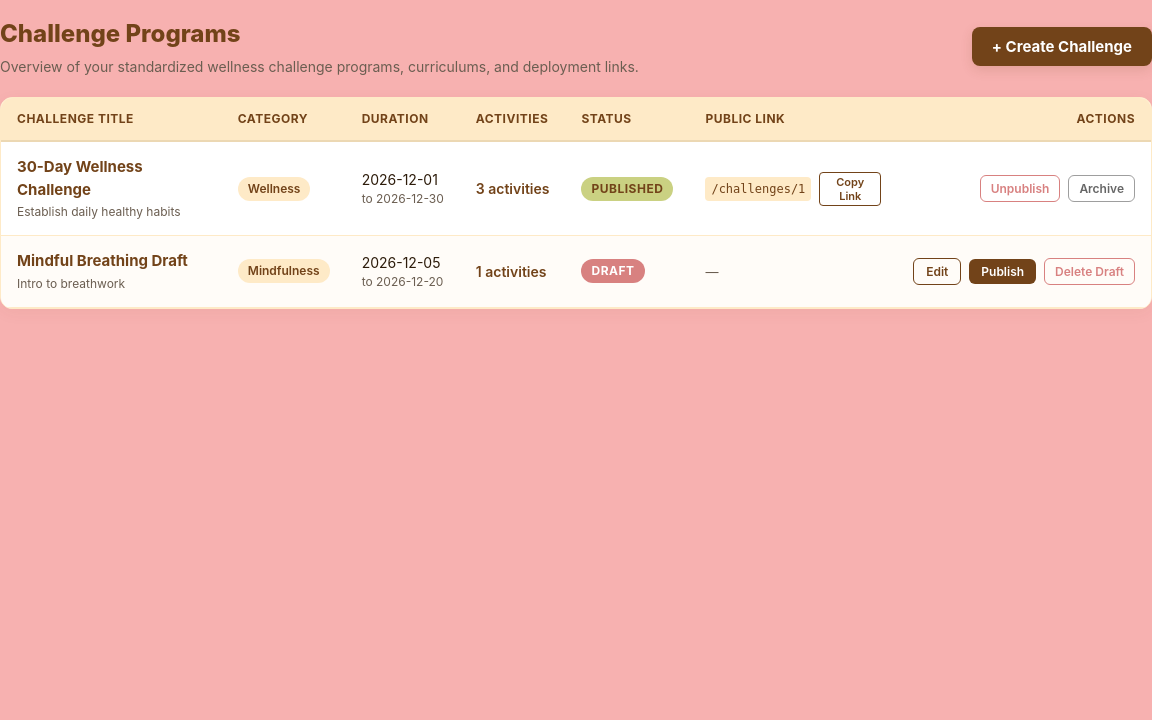
it: Program Builder Component (UI-07) › dynamically adds and removes activity rows with minimum 1 activity constraint
This screenshot has width=1152, height=720.
Later steps or results of the test are not shown.
Check: the heading "Challenge Programs" is shown, box [0, 19, 240, 48]
Open modal
Click the button "+ Create Challenge" at coordinates (1062, 46), box [972, 27, 1151, 66]
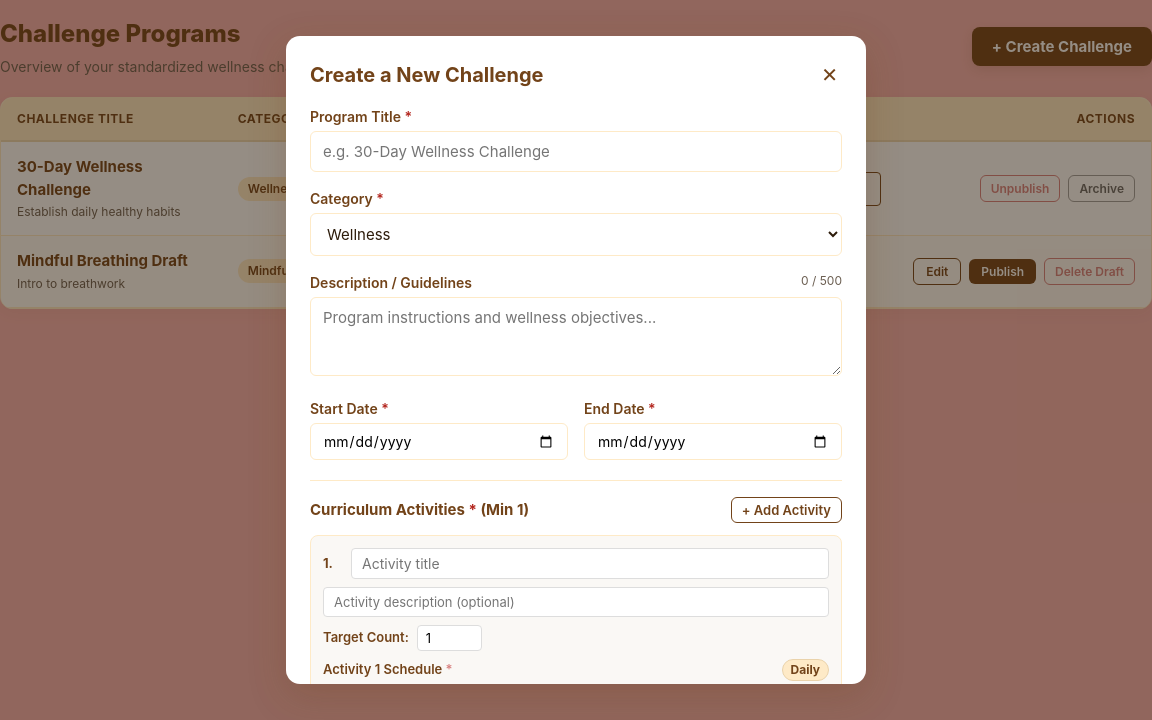
Click "+ Add Activity"
Click the button "+ Add Activity" at coordinates (786, 510), box [731, 497, 842, 523]
(page scrolled)
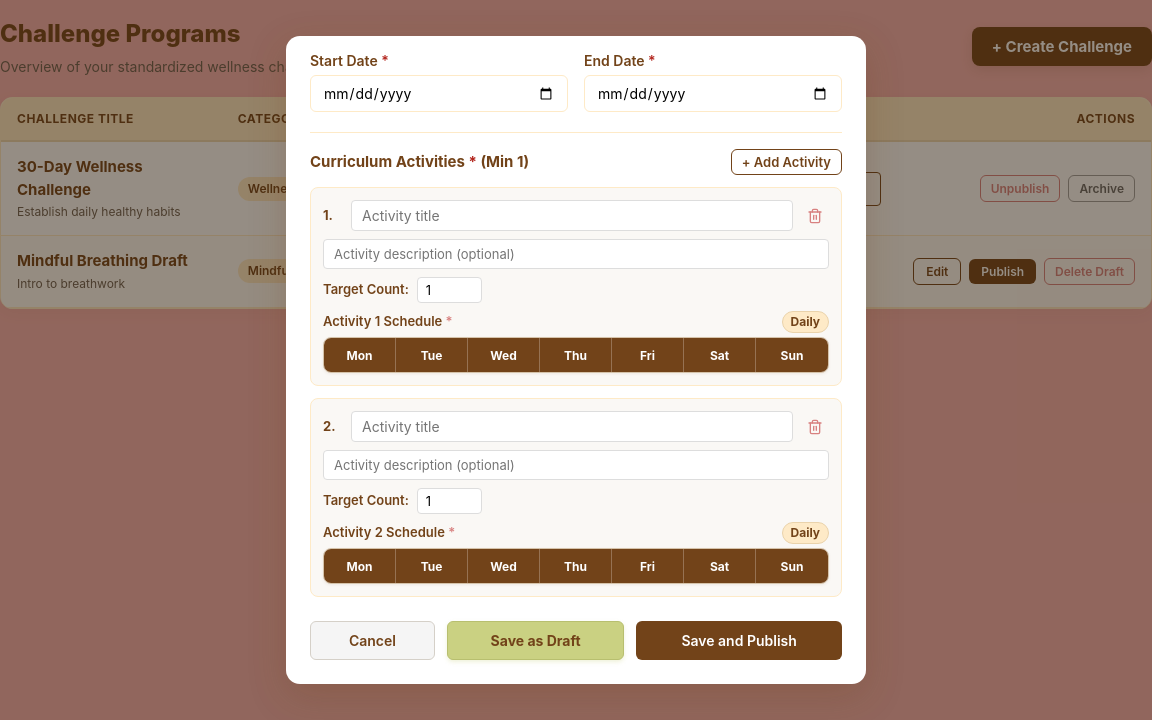
Check: the field named "Activity 2 Title" is shown, box [351, 411, 793, 442]
Check: the number of buttons named "Remove activity" is 2, box [801, 204, 829, 228]; [801, 414, 829, 438]
